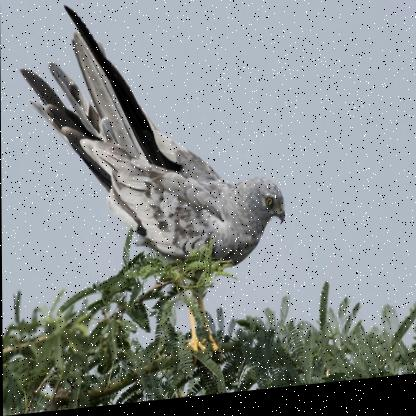Burung: (17, 0, 288, 371)
